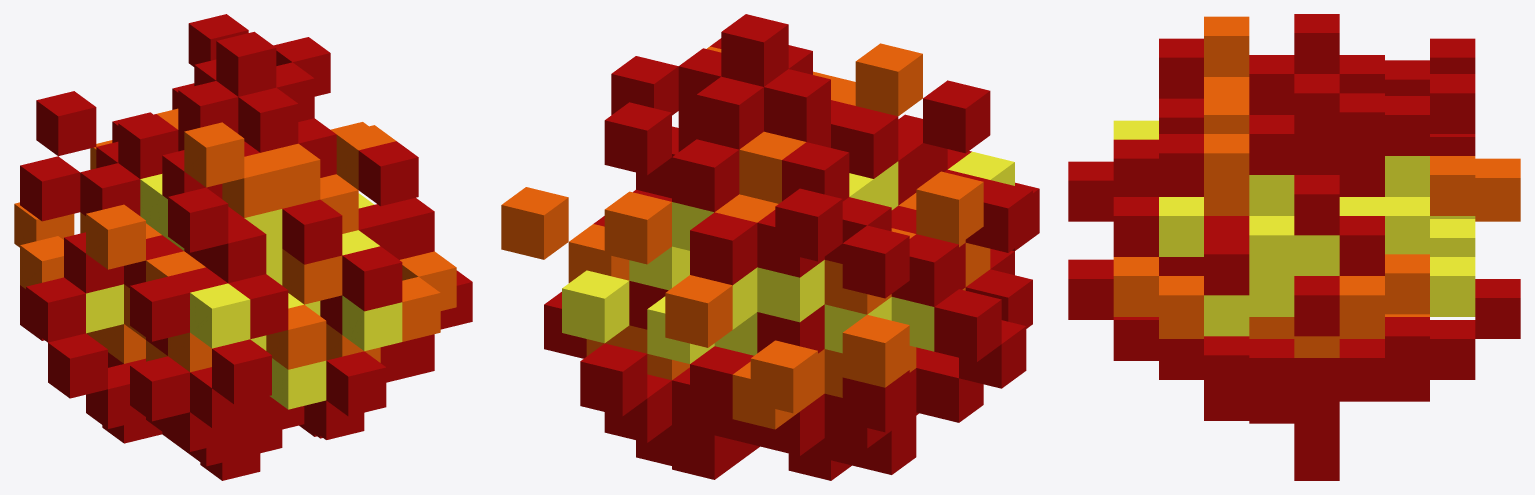
File: fire 2.obj
3 views of the same model, side by side, from view 1: azimuth 30°, elevation 25°; view 2: azimuth 150°, elevation 25°; view 3: azimuth 270°, elevation 25° (orthographic). The views are drawn at different scales.
Size of the model in its own units: 1 by 1 by 1.
1 material, 1 textured.
